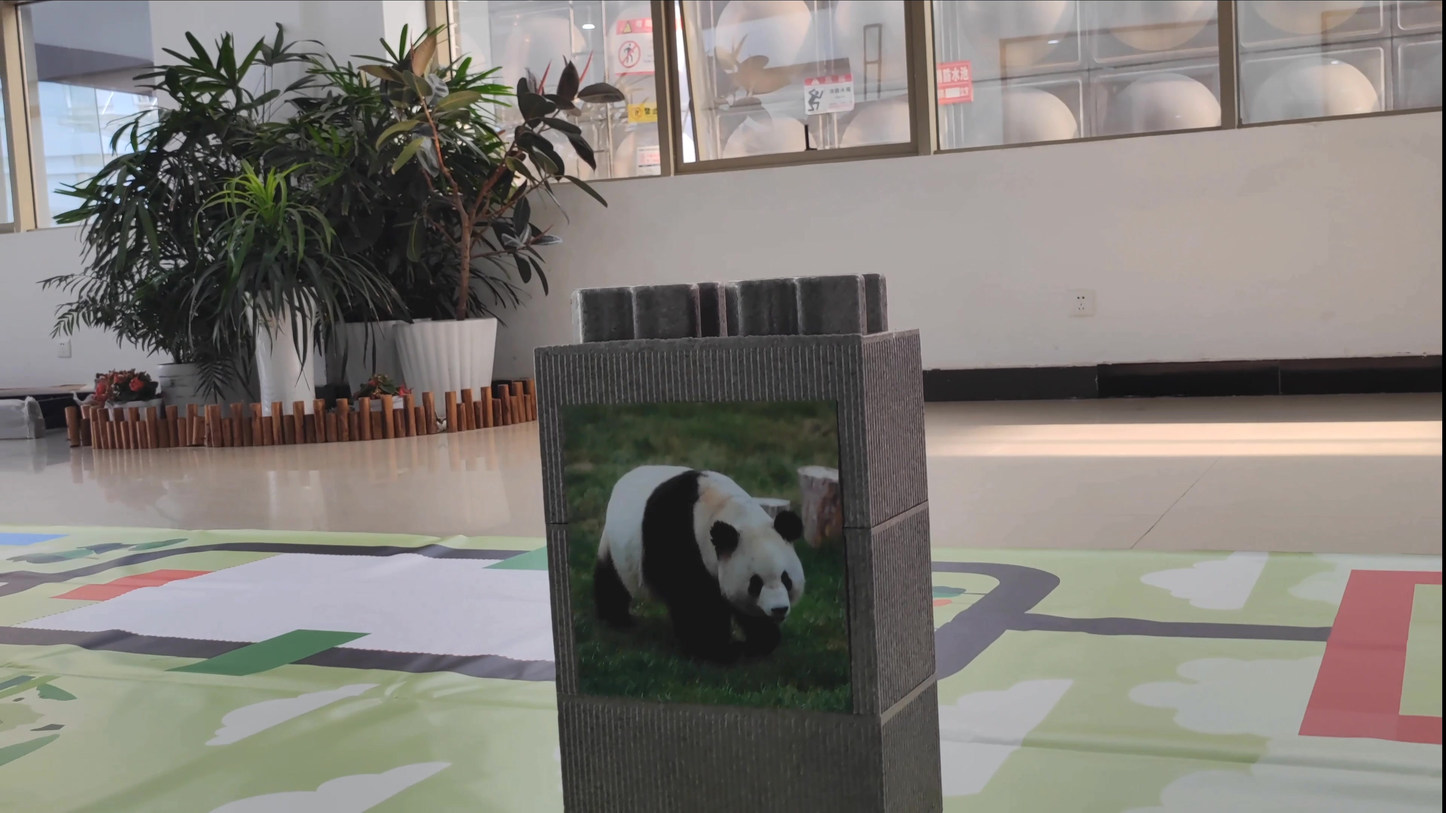panda: (544, 404, 860, 714)
